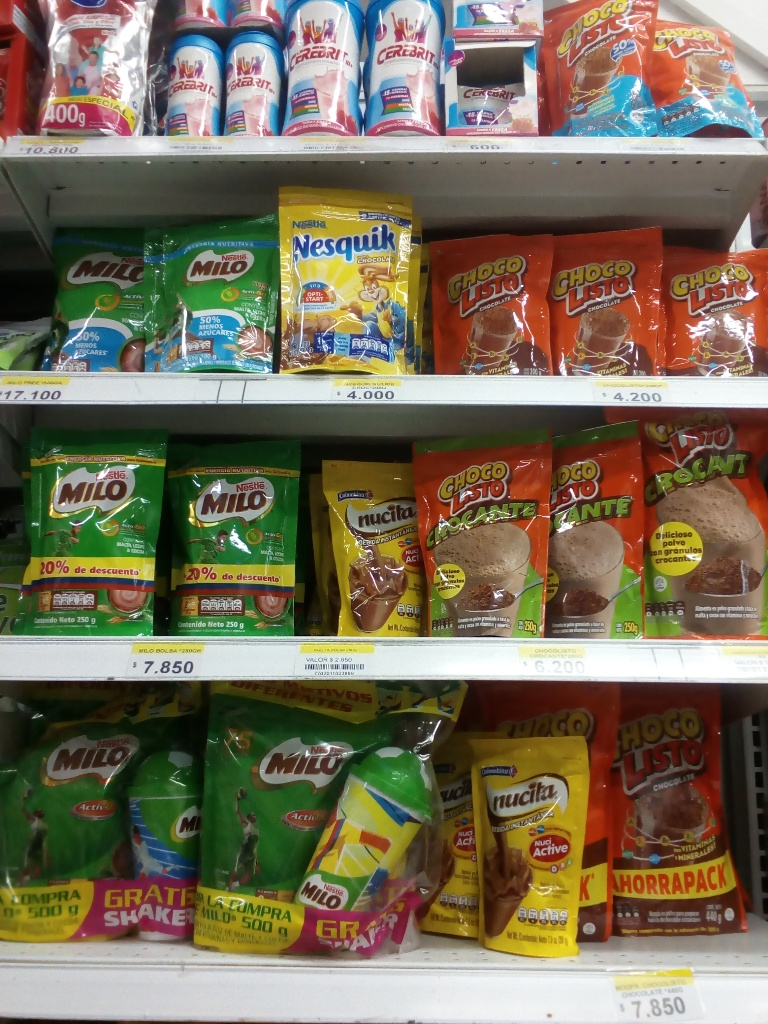COL0170102DYP25000: (548, 422, 650, 637)
COL0170102DYP50000: (613, 406, 767, 639)
COL0170103DYP20000: (660, 237, 767, 376)
COL0170103DYP44000: (605, 681, 758, 936)
COL0170104DYP20000: (645, 14, 766, 141)
COL0170203DYP25000: (163, 436, 303, 639)
COL0170203DYP50000: (202, 695, 332, 905)
COL0170205DYP20000: (140, 221, 291, 380)
COL0170303DYP20000: (273, 184, 415, 377)
